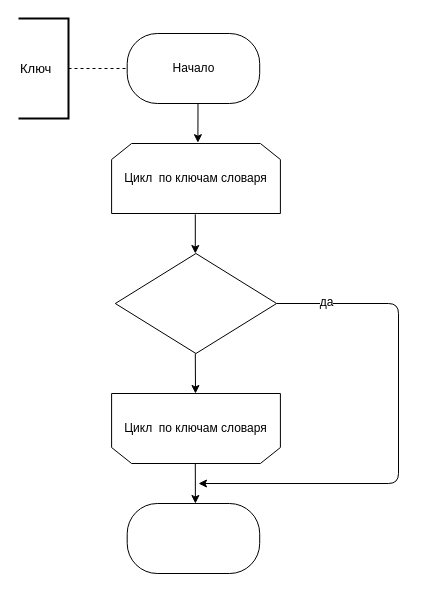
Some shapes in this 424 by 591 pixel diagram are drawn without their labels. Each missing label, with the box of its shape:
Ключ словаря равен искомому ключу?: (114, 252, 277, 354)
Конец: (126, 502, 260, 574)
